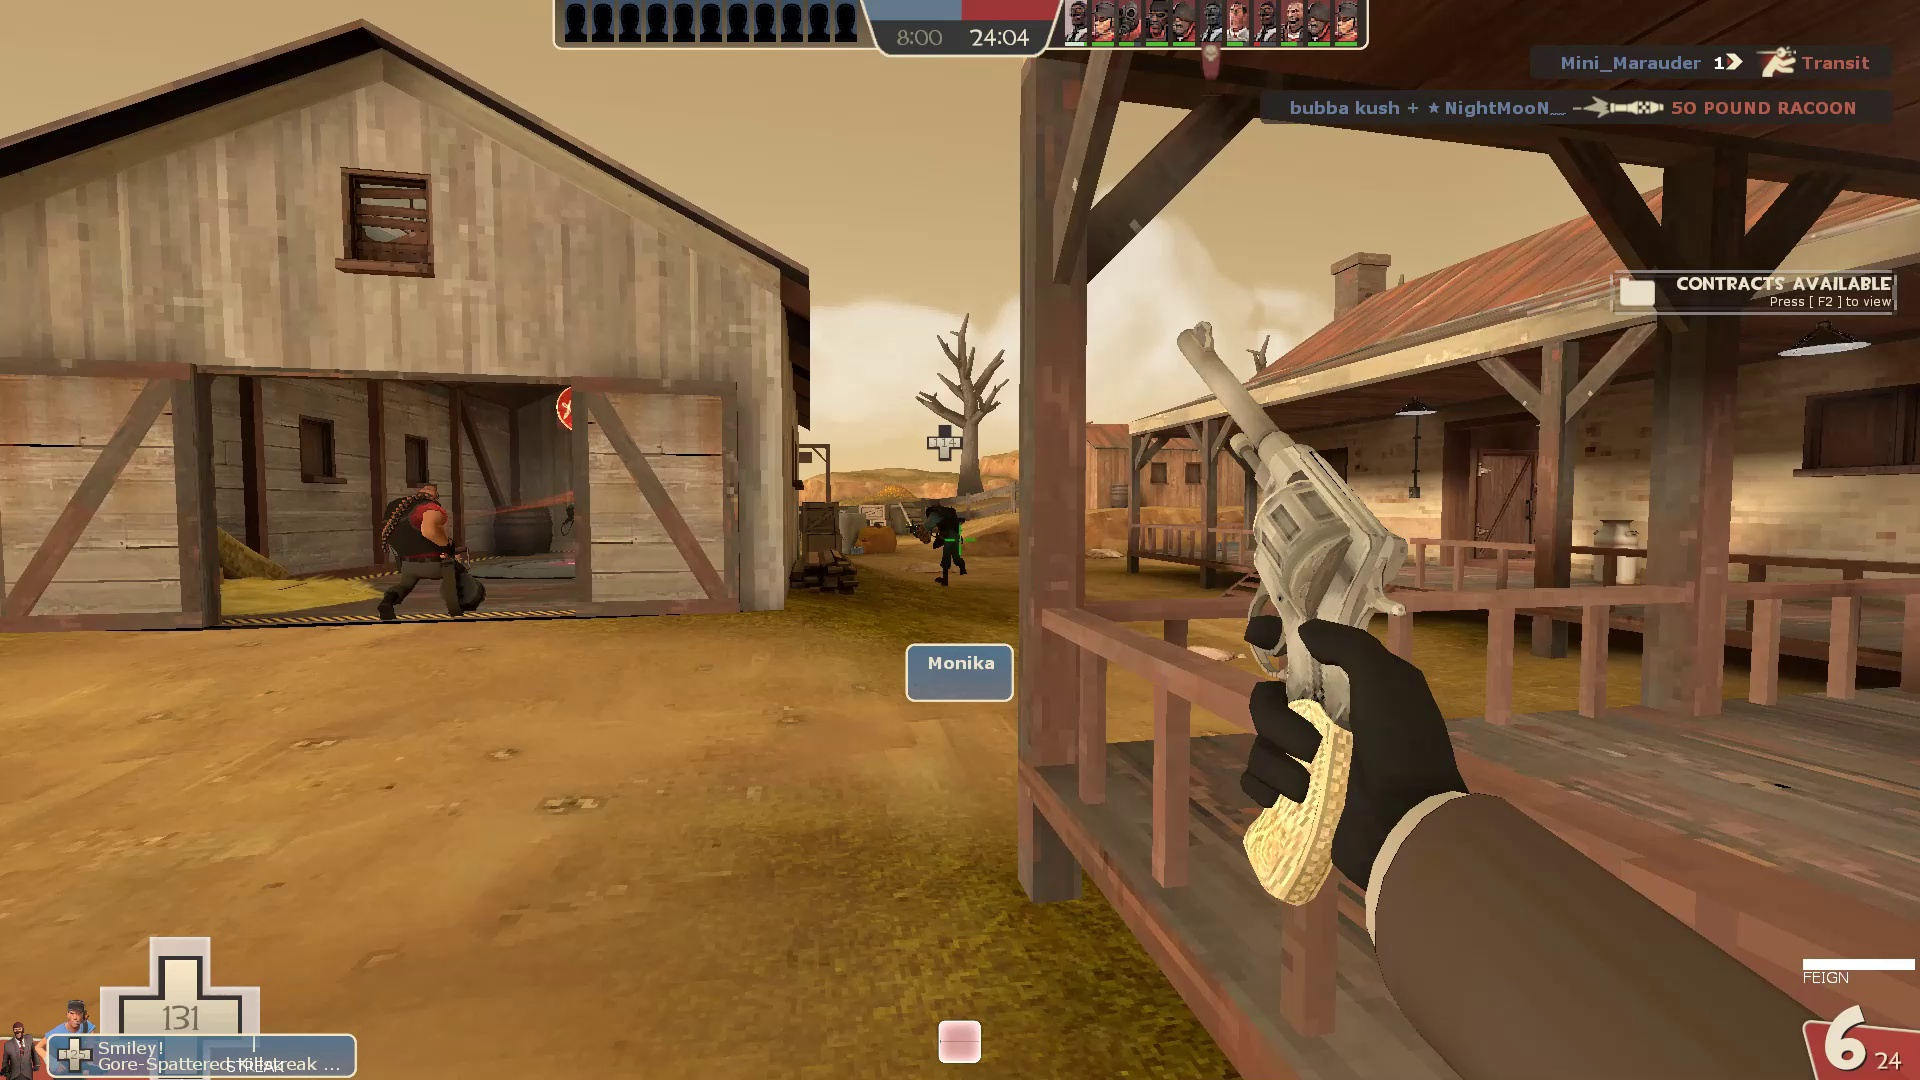blu_demo: (909, 493, 975, 593)
red_heavy: (368, 480, 491, 630)
